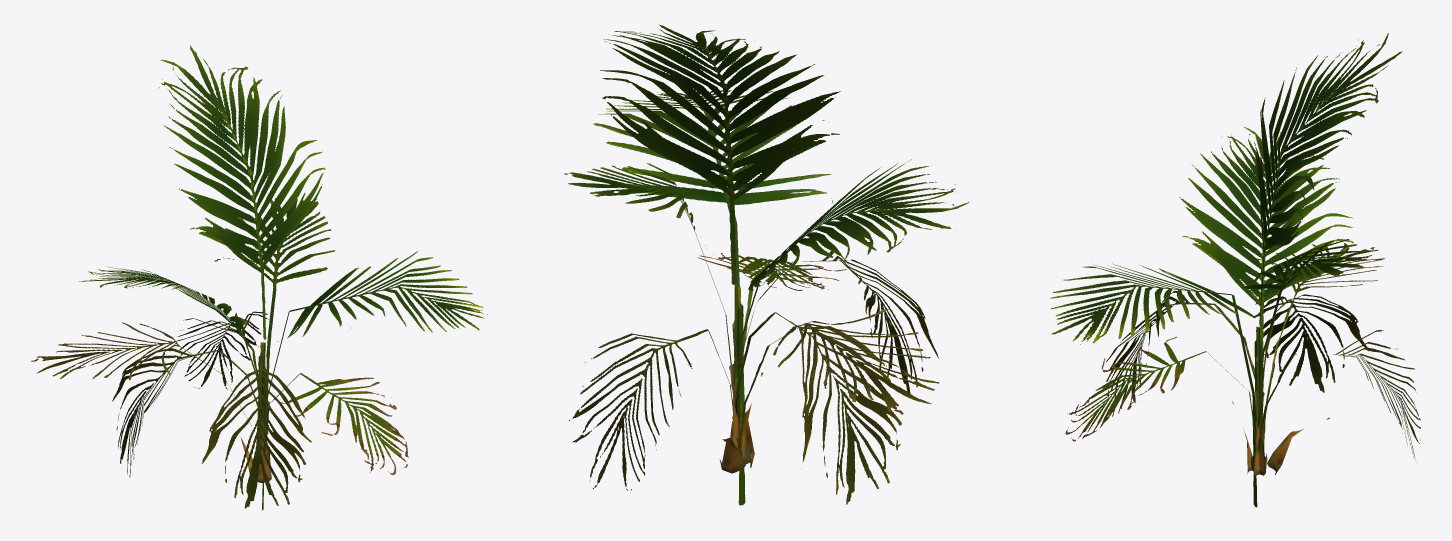
Rendered from Q_Plant_Palm_2.fbx.
3 renders of one model, left to right at view 1: azimuth 30°, elevation 25°; view 2: azimuth 150°, elevation 25°; view 3: azimuth 270°, elevation 25°, orthographic. The views are drawn at different scales.
Parts seen in each view (by area): view 1: _a09b_Var2_LOD4; view 2: _a09b_Var2_LOD4; view 3: _a09b_Var2_LOD4.
Boxes of the visible parts, bbox=[...] form: _a09b_Var2_LOD4: bbox=[31, 45, 487, 510]; _a09b_Var2_LOD4: bbox=[564, 24, 968, 505]; _a09b_Var2_LOD4: bbox=[1049, 33, 1420, 507].
Bounding box in the file's own units: 39.89 × 48.54 × 36.1.
Materials: 1 (1 with a texture image).
